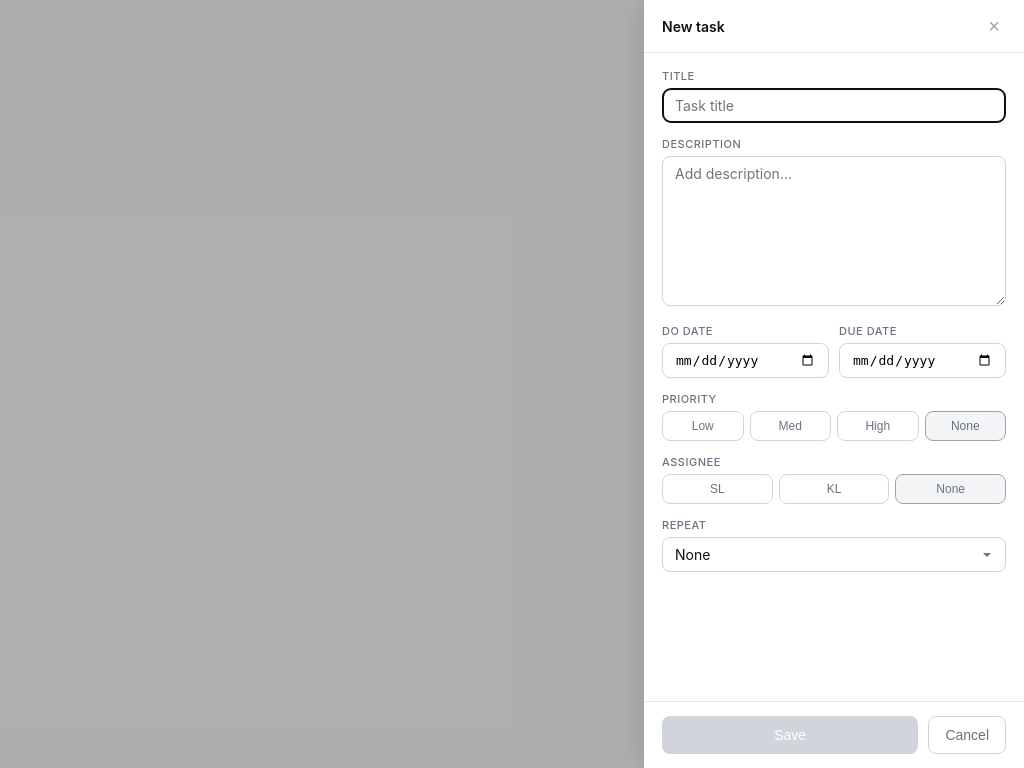
Test: TaskDrawer — create mode › Save button is enabled when title is filled
Type "New task" into the field with placeholder "Task title" at (834, 106), box [662,88,1006,123]
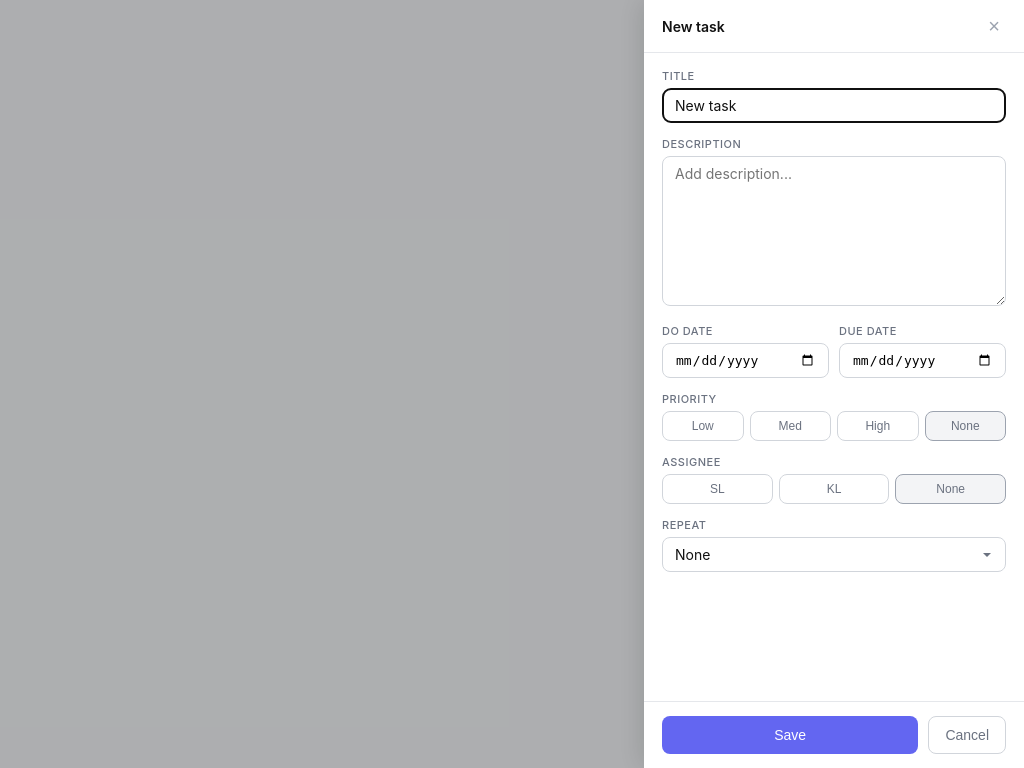
Expected: the button "Save" is enabled, [662,716,918,754]
